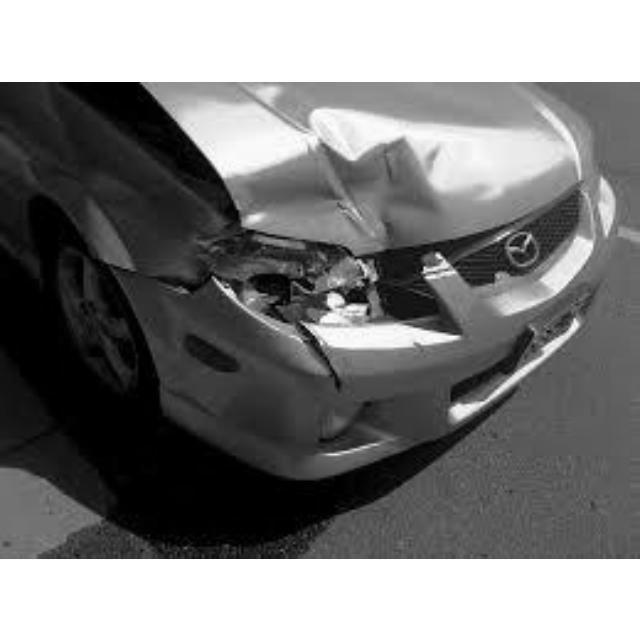Headlight-damage: (200, 229, 394, 357)
bonnet-dent: (192, 89, 494, 253)
